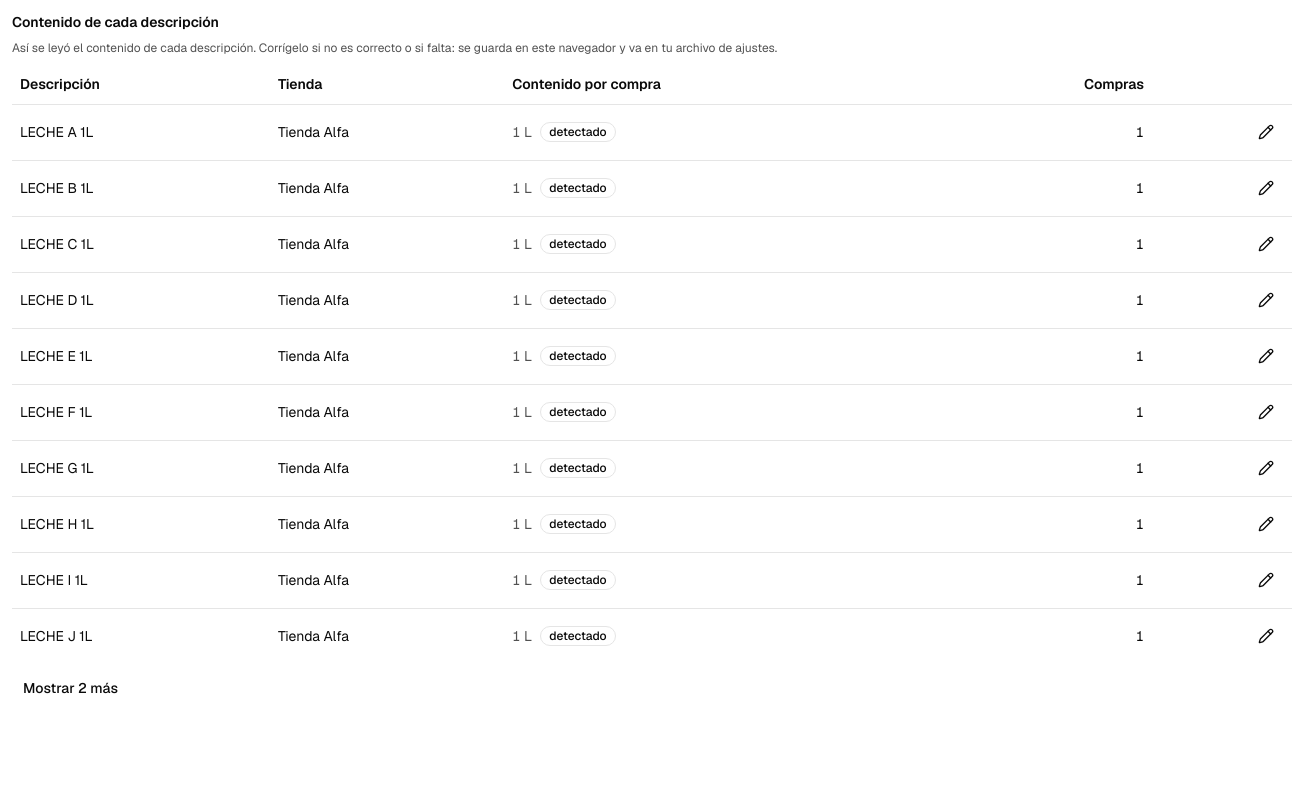
Scenario: Contenido de cada descripción: overflow (E8) › shows 10 members first and reveals the rest with «Mostrar 2 más»
Click the button "Mostrar 2 más": (70, 688) [12,672,129,704]
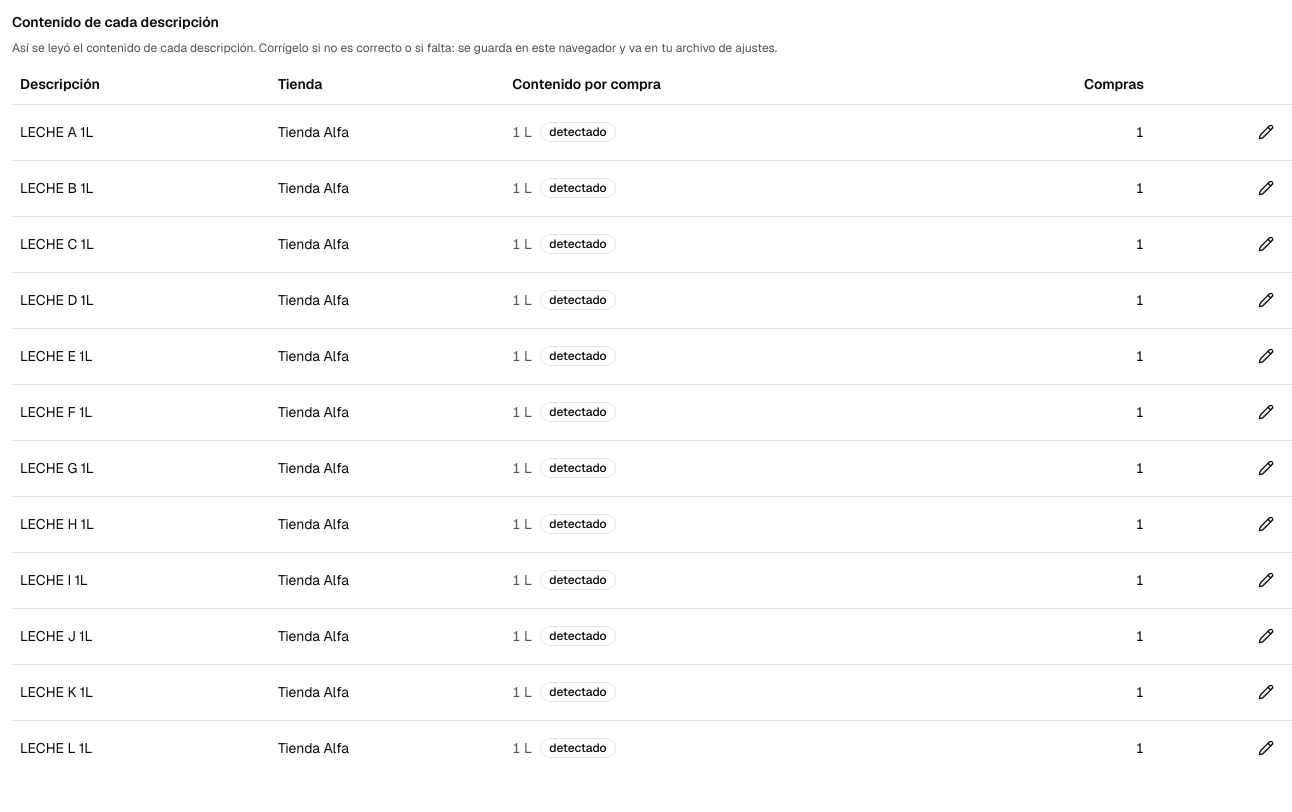
Result: the button "Mostrar" is gone
